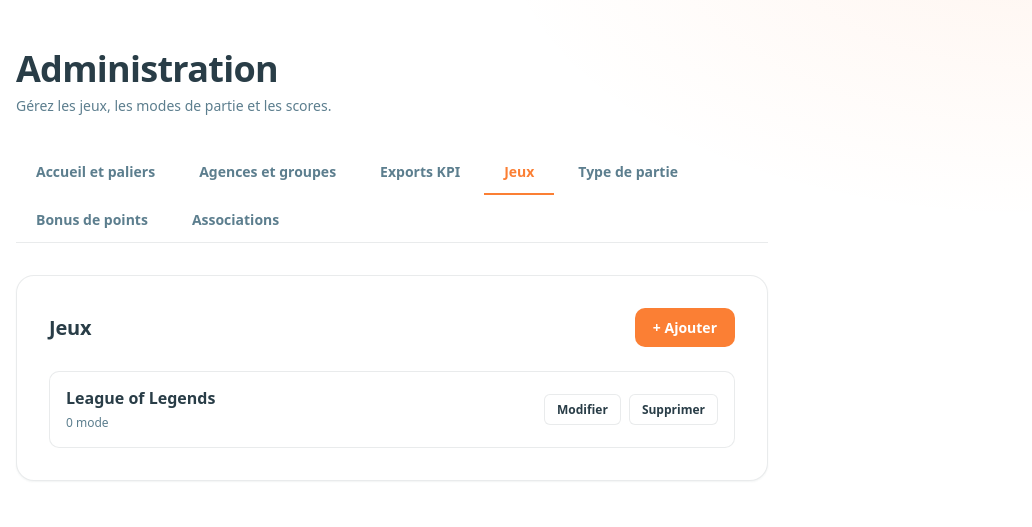
AdminPage › switches to game types tab
Click the tab "Type de partie" at (628, 172), box [558,150,698,195]
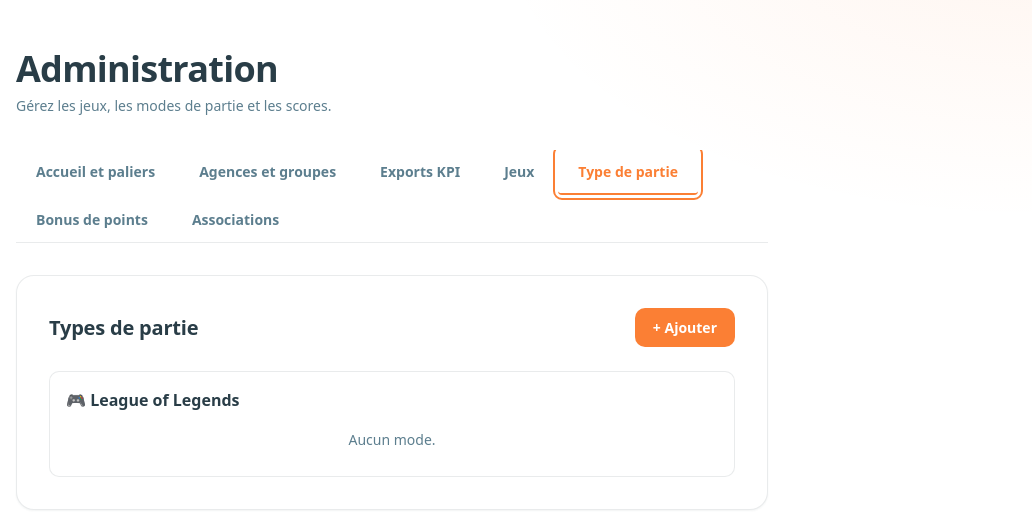
expect the heading "Types de partie" is shown: met, box [49,316,198,339]
